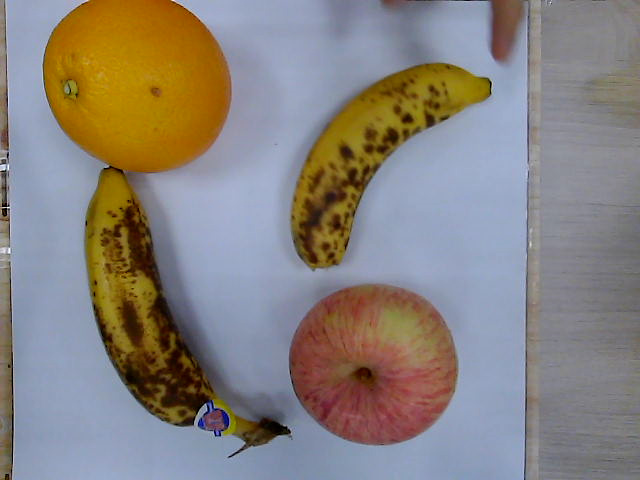fresh_apple: (292, 286, 460, 447)
fresh_orange: (44, 1, 230, 172)
rotten_banana: (84, 168, 290, 454), (292, 63, 493, 271)
